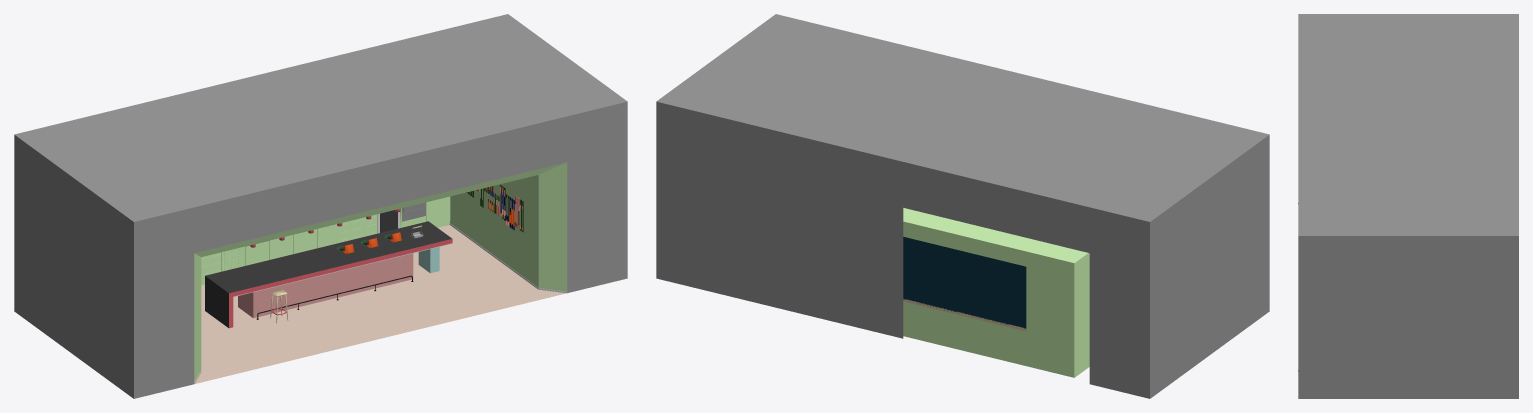
File: ul-kitchen13.gltf
3 views of the same model, side by side, from view 1: azimuth 30°, elevation 25°; view 2: azimuth 150°, elevation 25°; view 3: azimuth 270°, elevation 25° (orthographic). The views are drawn at different scales.
Parts seen in each view (by area): view 1: concreteWalls, floor, mainGreenWall, mainTableTopPlane, mainTableBase, closetDoors, mainTableSidePannels, mainTableSidePlane; view 2: concreteWalls, mainGreenWall, MainNishBackWall; view 3: concreteWalls.
Boxes of the visible parts, box(x1,y1,x2,y2) form: concreteWalls: box(14, 14, 627, 398); floor: box(195, 225, 565, 383); mainGreenWall: box(194, 162, 567, 381); mainTableTopPlane: box(205, 221, 451, 292); mainTableBase: box(238, 253, 413, 318); closetDoors: box(201, 196, 450, 281); mainTableSidePannels: box(229, 239, 452, 328); mainTableSidePlane: box(205, 276, 228, 327); concreteWalls: box(656, 14, 1269, 398); mainGreenWall: box(903, 208, 1089, 377); MainNishBackWall: box(903, 237, 1026, 328); concreteWalls: box(1298, 14, 1518, 398).
Bounding box in the file's own units: 208 × 71.34 × 87.55.
